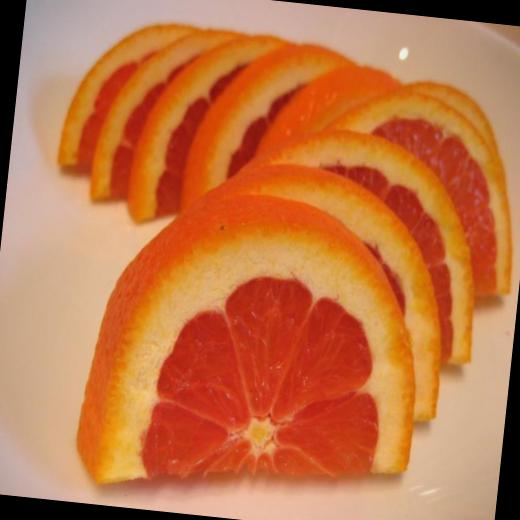Grape: (67, 180, 422, 498)
